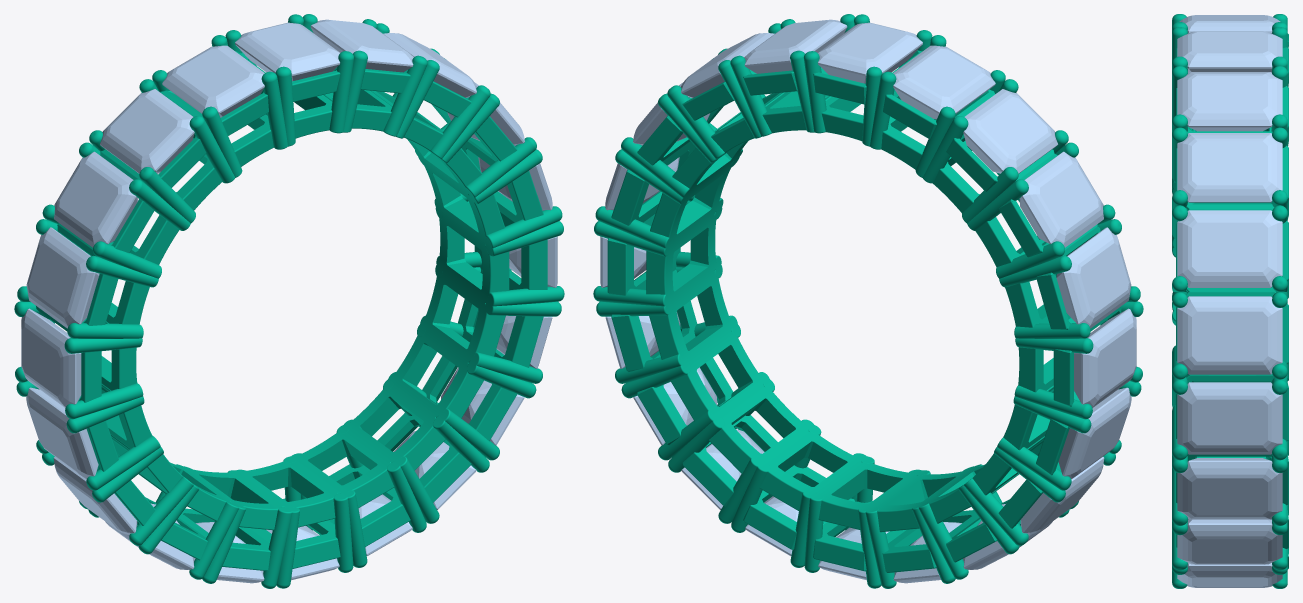
3 views of the same model, side by side, from view 1: azimuth 30°, elevation 25°; view 2: azimuth 150°, elevation 25°; view 3: azimuth 270°, elevation 25° (orthographic).
Visible parts, largest first — view 1: Bezel (×40), Diamond_Emerald (×20), Head Prong (×40); view 2: Bezel (×40), Diamond_Emerald (×20), Head Prong (×40); view 3: Diamond_Emerald (×10), Head Prong (×28), Bezel (×7).
Part boxes in pixels (x1,y1,x2,y2): Bezel (×40): (36,51,547,570); Diamond_Emerald (×20): (21,19,557,583); Head Prong (×40): (64,50,564,588); Bezel (×40): (607,50,1121,572); Diamond_Emerald (×20): (600,19,1136,583); Head Prong (×40): (593,50,1093,588); Diamond_Emerald (×10): (1177,15,1282,586); Head Prong (×28): (1172,27,1287,570); Bezel (×7): (1176,86,1288,548).
Bounding box in the file's own units: 2.8 × 2.8 × 0.5715.
